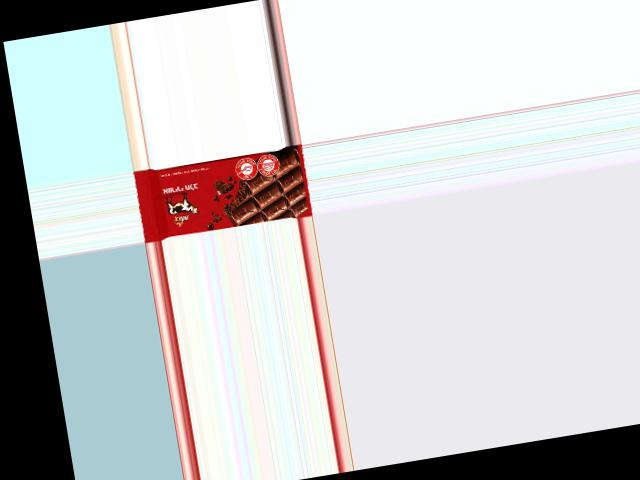chocolate: (132, 144, 310, 242)
